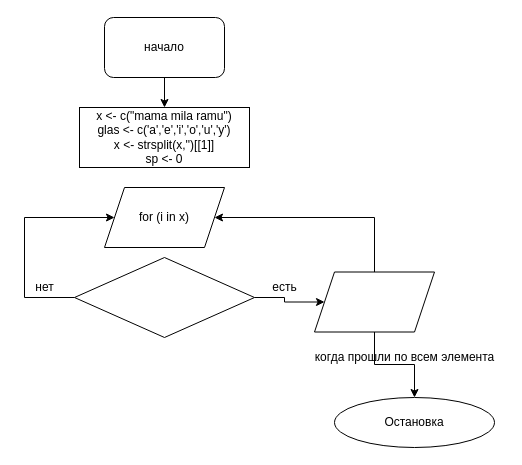
The diagram is 522 pixels wide and 465 high, and some of its shapes have lost their labels. Here are the shapes that lost their labels. From the top down, the centre of each, then its label:
At (164,297): "if (i %in% glas)".
At (374,301): "sp <- sp+1".
